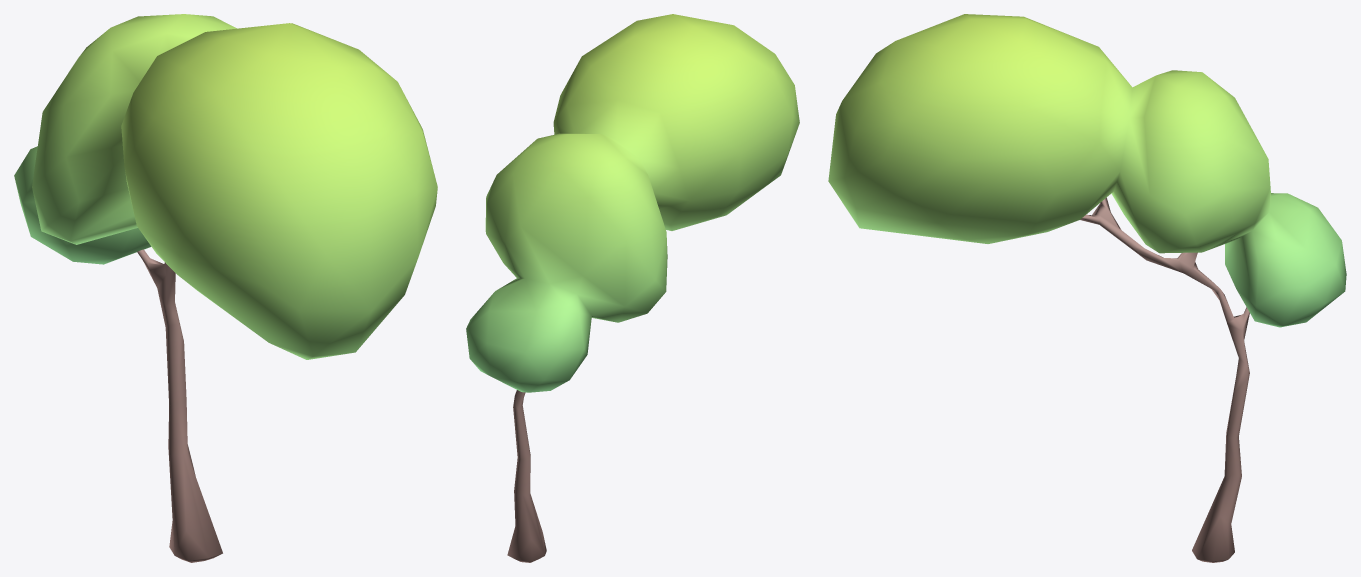
File: Tree03_S_Green.fbx
3 renders of one model, left to right at view 1: azimuth 30°, elevation 25°; view 2: azimuth 150°, elevation 25°; view 3: azimuth 270°, elevation 25°, orthographic. The views are drawn at different scales.
Parts seen in each view (by area): view 1: Tree03_S_Green; view 2: Tree03_S_Green; view 3: Tree03_S_Green.
Part boxes in pixels (x1,y1,x2,y2): Tree03_S_Green: (14,14,437,562); Tree03_S_Green: (466,14,799,562); Tree03_S_Green: (828,14,1346,562).
Bounding box in the file's own units: 2.07 × 4.84 × 4.47.
